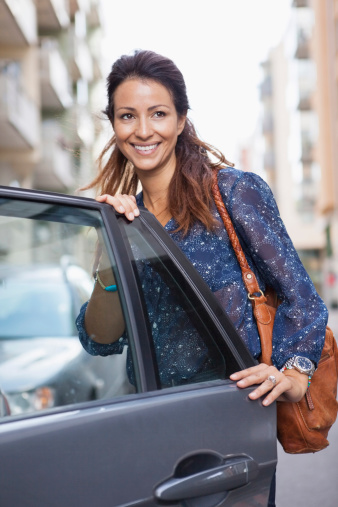em pe: (41, 37, 324, 385)
